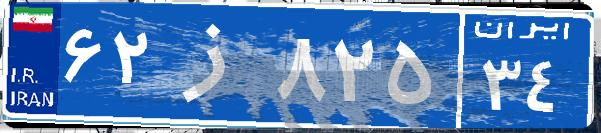2: (330, 28, 385, 110), (110, 28, 158, 105)
3: (475, 38, 525, 113)
4: (525, 38, 570, 115)
5: (385, 28, 445, 110)
6: (57, 26, 110, 107)
8: (273, 28, 330, 110)
ز: (158, 15, 273, 115)
